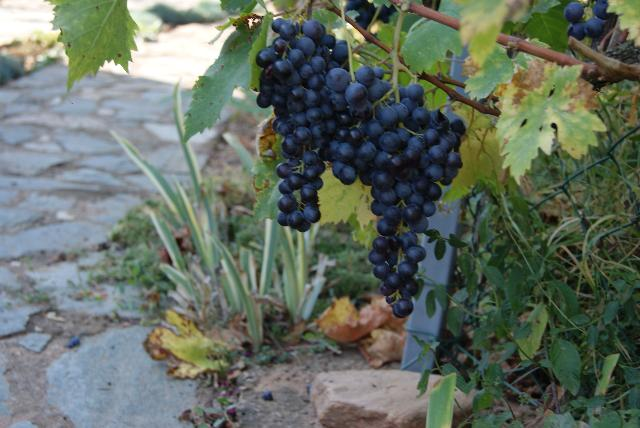grapes: (334, 84, 466, 319), (256, 18, 348, 231), (304, 61, 372, 175), (360, 66, 376, 86)
